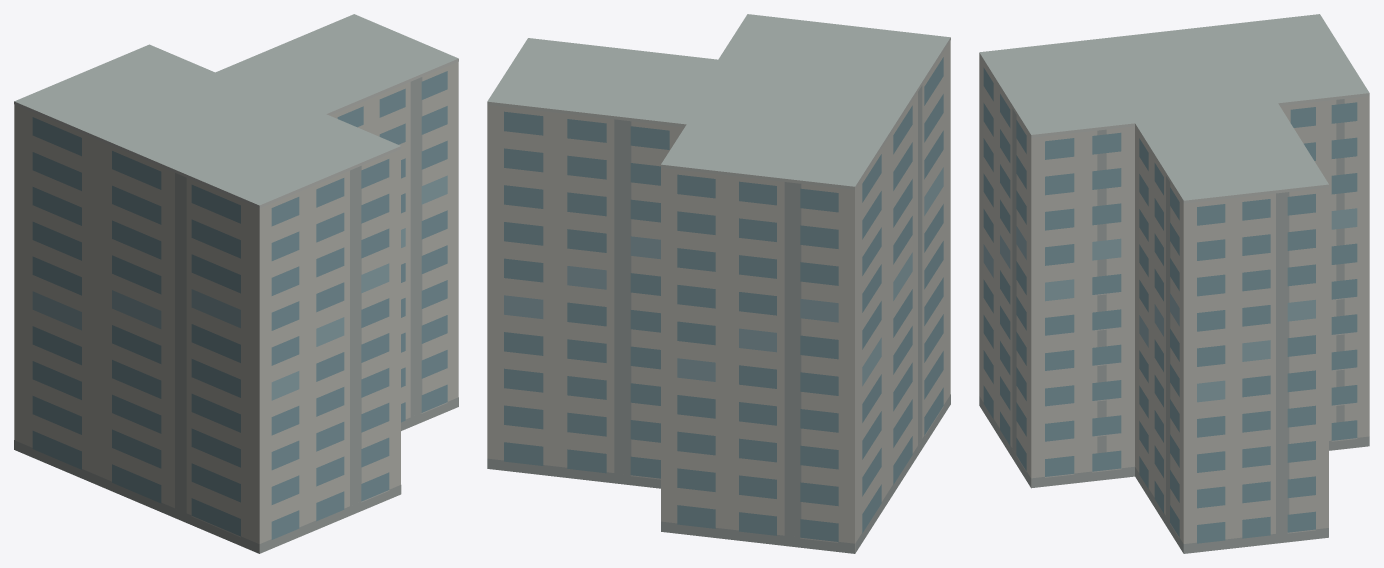
The model's file is residential-1d5dd9de-3d9c-4c97-9b39-856be0832885.glb.
3 views of the same model, side by side, from view 1: azimuth 30°, elevation 25°; view 2: azimuth 150°, elevation 25°; view 3: azimuth 270°, elevation 25° (orthographic). The views are drawn at different scales.
Visible parts, largest first — view 1: residential-1d5dd9de-3d9c-4c97-9b39-856be0832885.tmp; view 2: residential-1d5dd9de-3d9c-4c97-9b39-856be0832885.tmp; view 3: residential-1d5dd9de-3d9c-4c97-9b39-856be0832885.tmp.
Part boxes in pixels (x1,y1,x2,y2): residential-1d5dd9de-3d9c-4c97-9b39-856be0832885.tmp: [14, 14, 458, 553]; residential-1d5dd9de-3d9c-4c97-9b39-856be0832885.tmp: [487, 14, 950, 553]; residential-1d5dd9de-3d9c-4c97-9b39-856be0832885.tmp: [979, 14, 1369, 553].
Bounding box in the file's own units: 31.76 × 28 × 28.06.
